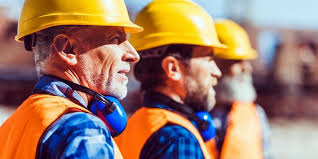Person_wearing_helmet: (12, 0, 146, 64), (127, 0, 230, 64)
